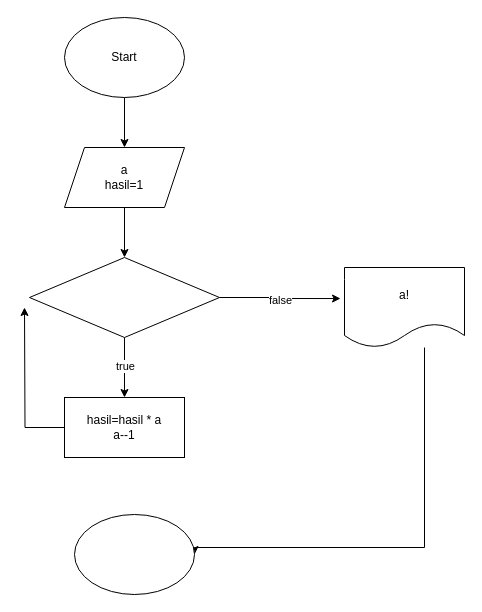
This 482x612 diagram has some shape labels left out. Here are the shapes that lost their labels. From the top down, the centre of each, then its label:
At (124,297): "a>0".
At (134,554): "End".
